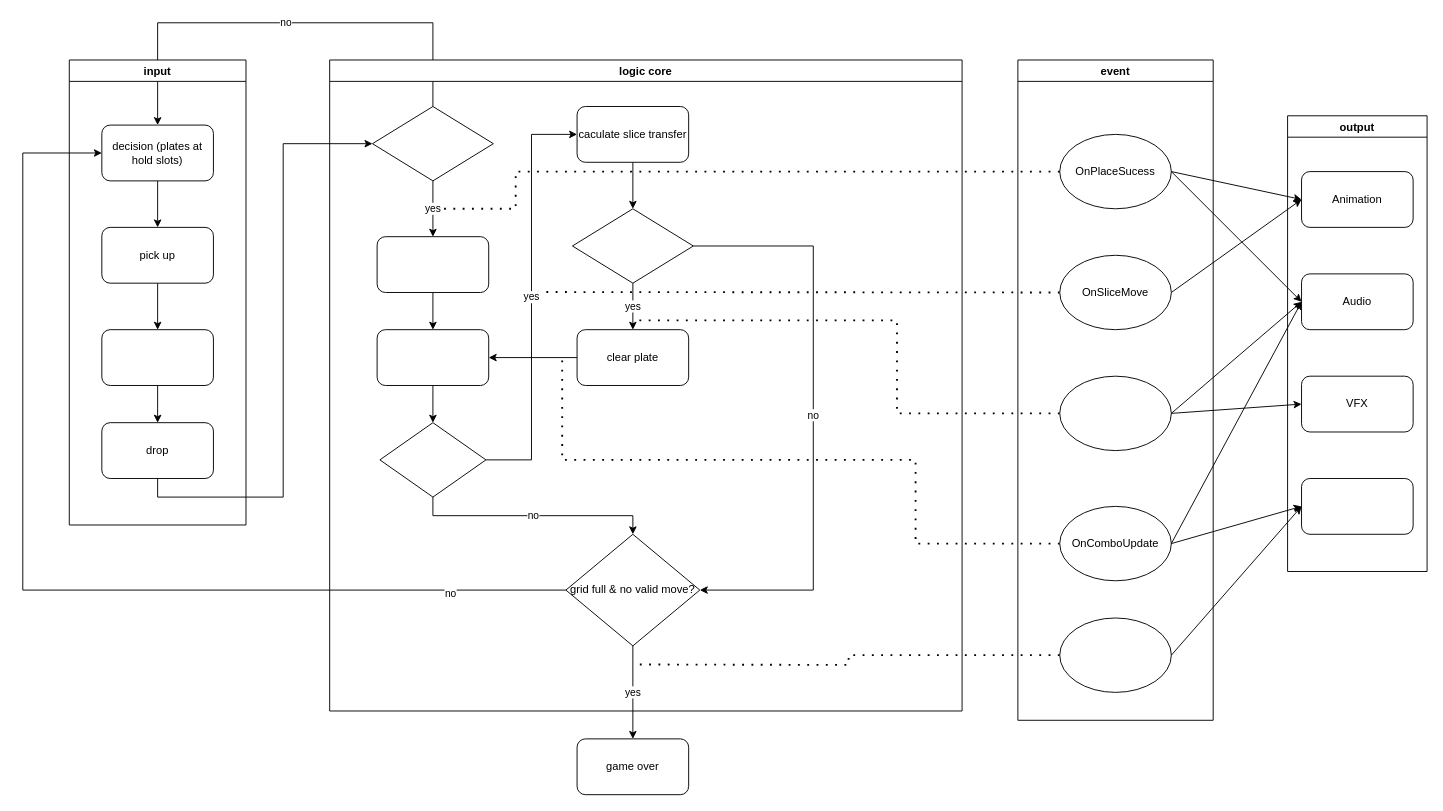
Some shapes in this 1443 by 811 pixel diagram are drawn without their labels. Here are the shapes that lost their labels. From the top down, the centre of each, then its label:
the point at 432,143: is slot empty?
the point at 432,264: update grid matrix
the point at 632,245: is plate compeleted?
the point at 157,357: drag
the point at 432,357: scan 4 directions for matching slices
the point at 1115,413: OnClearPlate
the point at 432,459: pizza type match?
the point at 1357,506: UI
the point at 1115,654: OnGameOver
